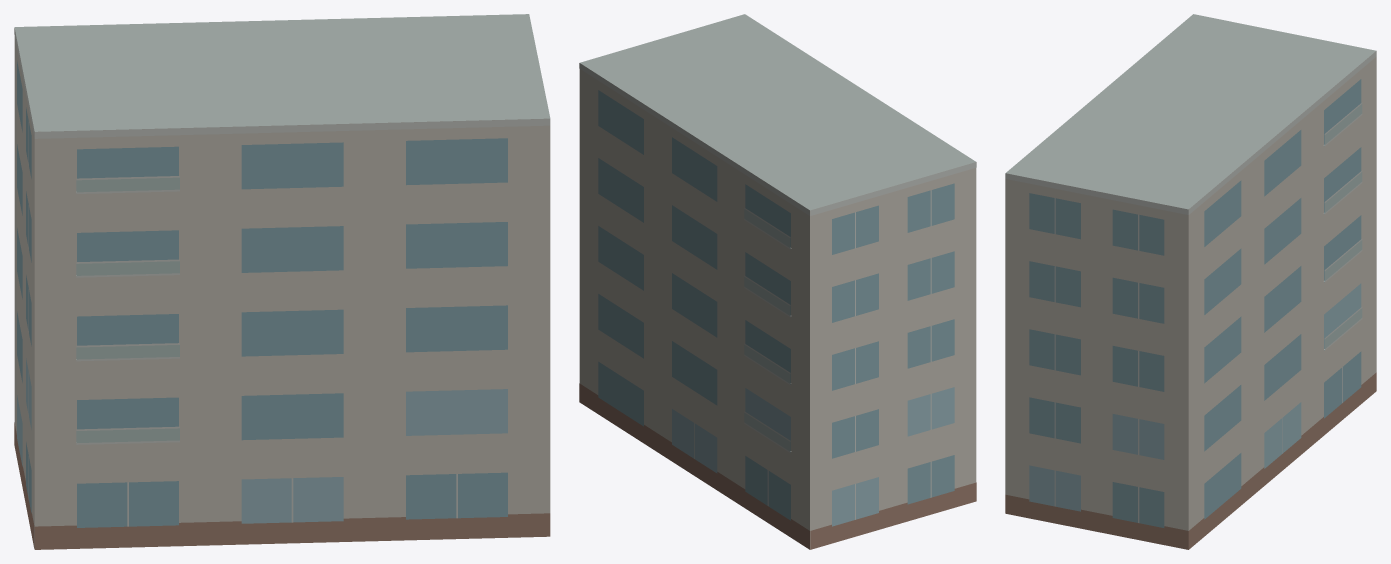
Rendered from survey-upis-32890168.glb.
3 renders of one model, left to right at view 1: azimuth 30°, elevation 25°; view 2: azimuth 150°, elevation 25°; view 3: azimuth 270°, elevation 25°, orthographic. The views are drawn at different scales.
Parts seen in each view (by area): view 1: survey-upis-32890168.tmp; view 2: survey-upis-32890168.tmp; view 3: survey-upis-32890168.tmp.
Boxes of the visible parts, x1,y1,x2,y2 form: survey-upis-32890168.tmp: (14, 14, 550, 549); survey-upis-32890168.tmp: (579, 14, 976, 549); survey-upis-32890168.tmp: (1005, 14, 1376, 549).
Bounding box in the file's own units: 17.86 × 14.5 × 14.34.
